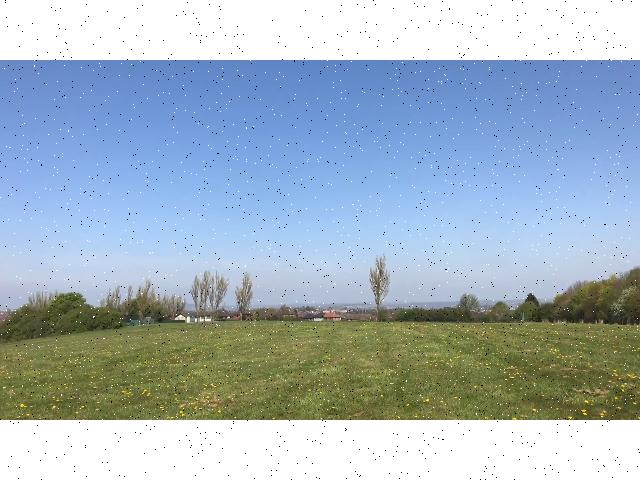Anti-Drone: (244, 243, 264, 253)
